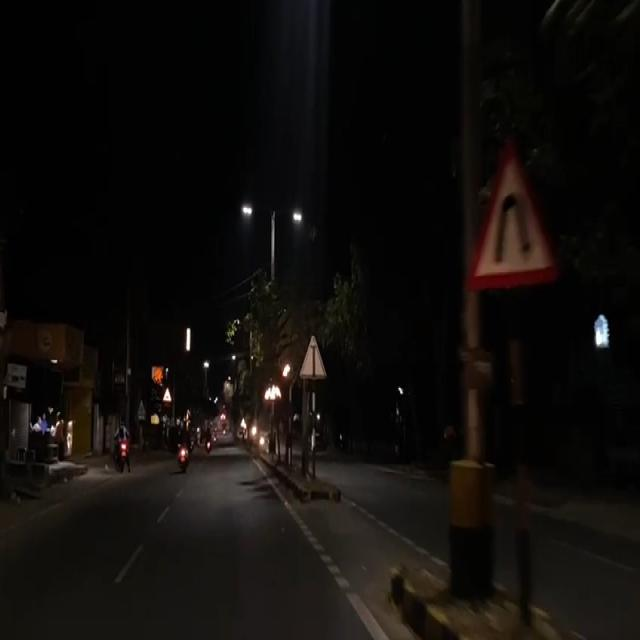bien_cam: (466, 132, 560, 296)
